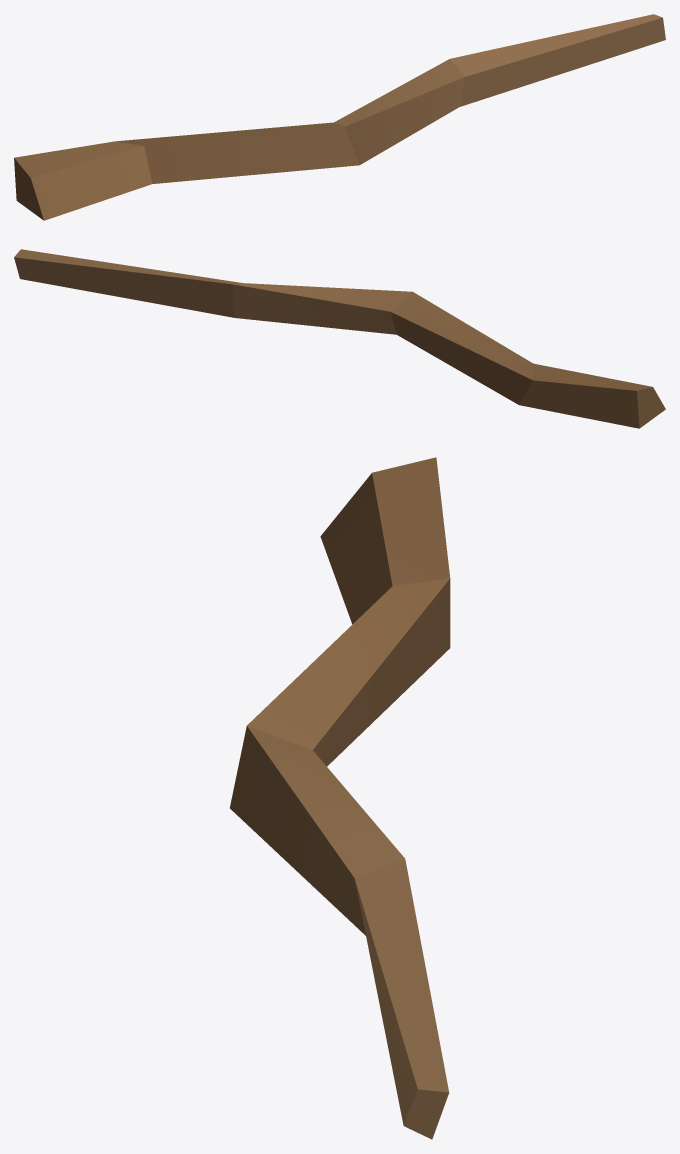
Rendered from branch_03.fbx.
3 renders of one model, top to bottom at view 1: azimuth 30°, elevation 25°; view 2: azimuth 150°, elevation 25°; view 3: azimuth 270°, elevation 25°, orthographic. The views are drawn at different scales.
Parts seen in each view (by area): view 1: branch_03; view 2: branch_03; view 3: branch_03.
Boxes of the visible parts, box(x1,y1,x2,y2) form: branch_03: box(14, 14, 665, 220); branch_03: box(14, 249, 665, 428); branch_03: box(230, 457, 450, 1139).
Size of the model in its own units: 1.3 by 0.08 by 0.2.
1 material, 1 textured.
